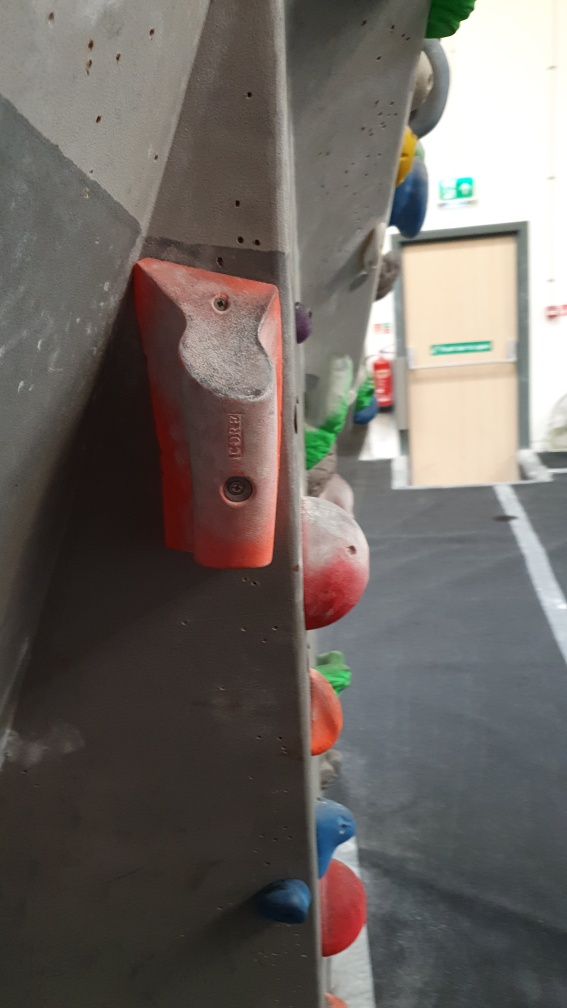Pinch: (129, 253, 290, 581)
Sloper: (297, 489, 372, 630), (313, 849, 371, 966)
